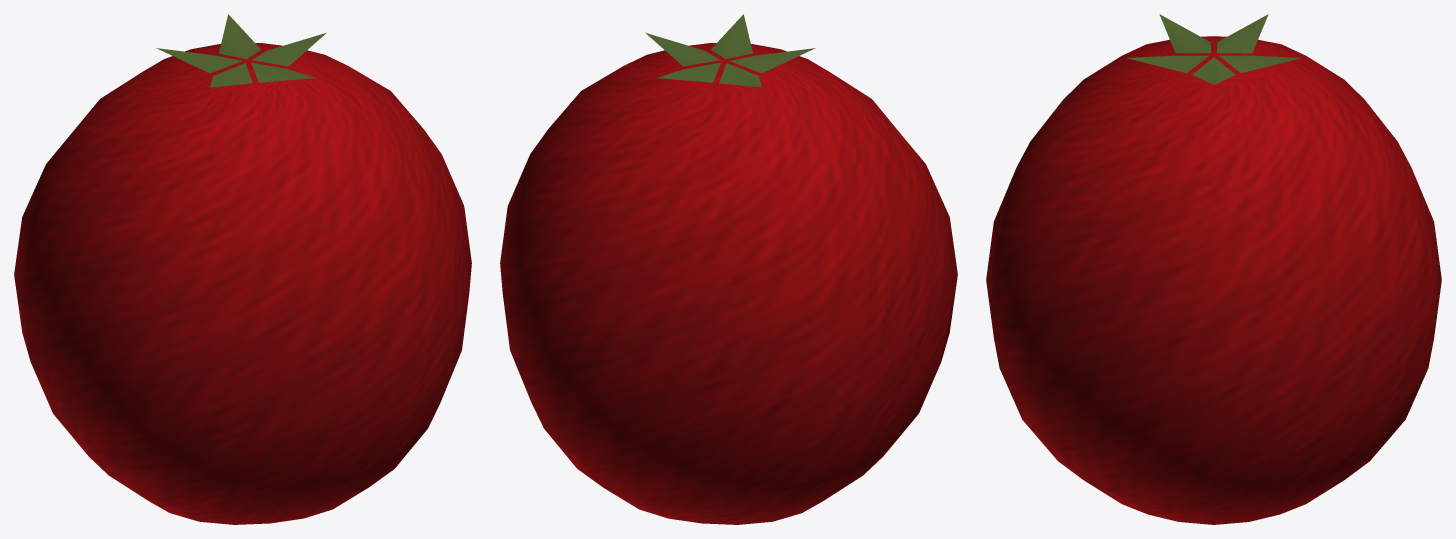
The model's file is healing_berry_pickup.glb.
3 views of the same model, side by side, from view 1: azimuth 30°, elevation 25°; view 2: azimuth 150°, elevation 25°; view 3: azimuth 270°, elevation 25° (orthographic).
Visible parts, largest first — view 1: healing_berry_pickup; view 2: healing_berry_pickup; view 3: healing_berry_pickup.
Boxes of the visible parts, x1,y1,x2,y2 form: healing_berry_pickup: (14, 14, 471, 524); healing_berry_pickup: (500, 14, 957, 524); healing_berry_pickup: (986, 14, 1441, 524).
Size of the model in its own units: 0.0281 by 0.0307 by 0.0276.
Materials: 2 (1 with a texture image).
